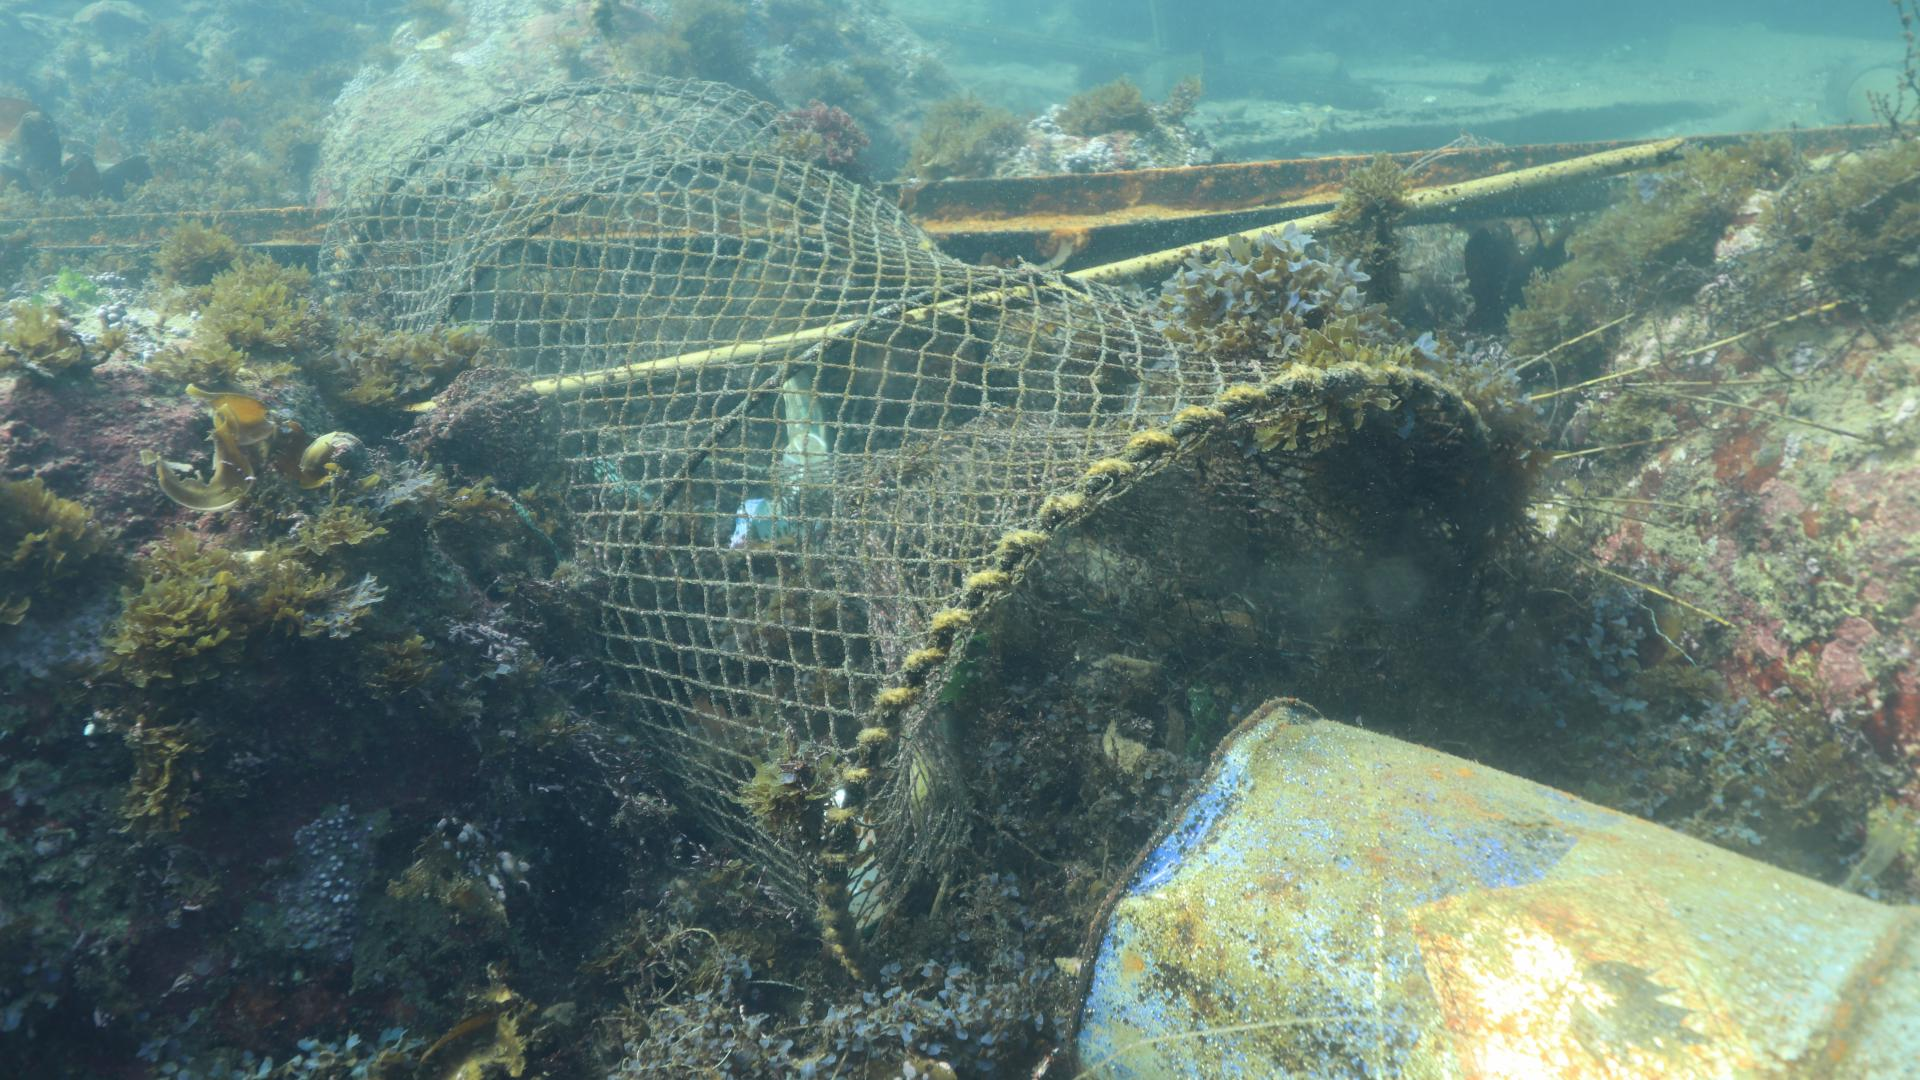spring fish trap: (313, 67, 1491, 981)
